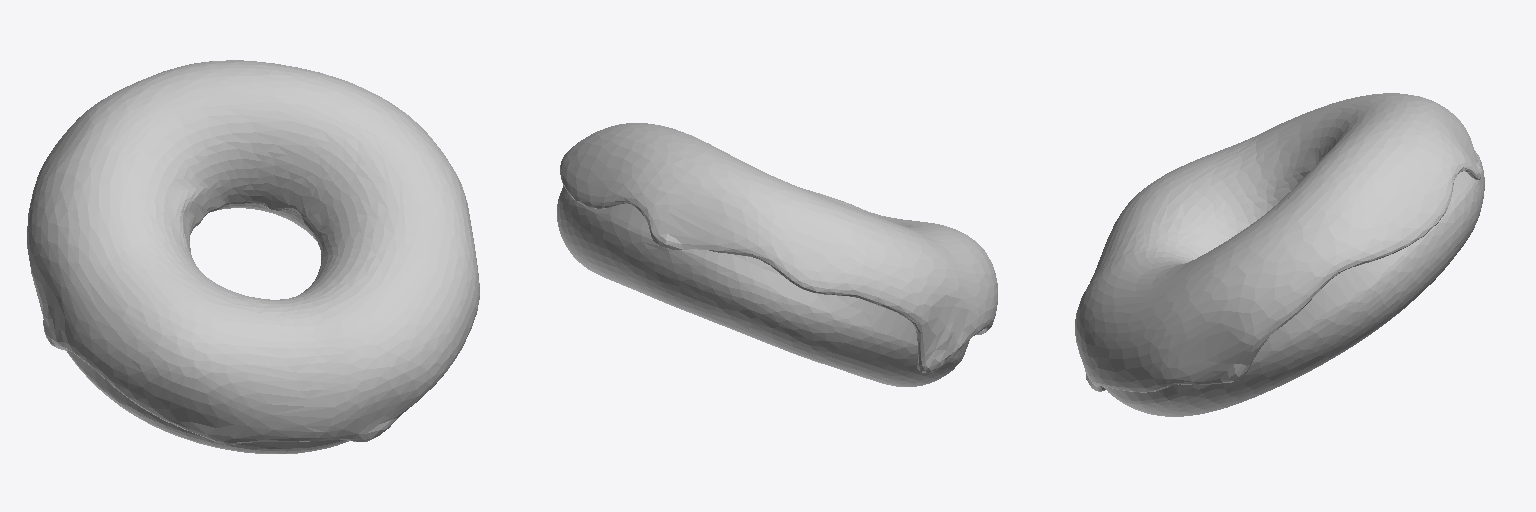
File: donutOBJ.obj
The picture shows the model from 3 angles: view 1: azimuth 30°, elevation 25°; view 2: azimuth 150°, elevation 25°; view 3: azimuth 270°, elevation 25°; orthographic projection.
Visible parts, largest first — view 1: icing_Torus.002, Donut_Torus.001; view 2: icing_Torus.002, Donut_Torus.001; view 3: icing_Torus.002, Donut_Torus.001.
Part boxes in pixels (left/top/right/bottom): icing_Torus.002: left=27, top=60, right=479, bottom=444; Donut_Torus.001: left=66, top=203, right=348, bottom=453; icing_Torus.002: left=560, top=123, right=997, bottom=372; Donut_Torus.001: left=557, top=186, right=969, bottom=386; icing_Torus.002: left=1075, top=93, right=1482, bottom=392; Donut_Torus.001: left=1104, top=150, right=1484, bottom=416.
Size of the model in its own units: 1.92 by 1.31 by 1.73.